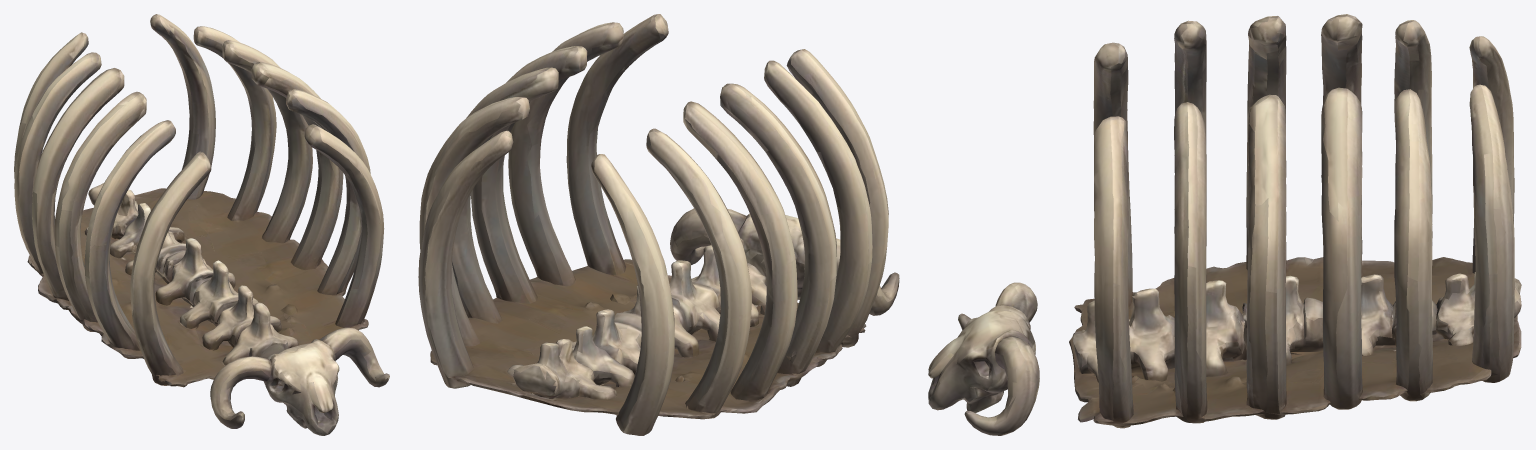
File: beast_skeleton.glb
3 renders of one model, left to right at view 1: azimuth 30°, elevation 25°; view 2: azimuth 150°, elevation 25°; view 3: azimuth 270°, elevation 25°, orthographic. The views are drawn at different scales.
Visible parts, largest first — view 1: geometry_0; view 2: geometry_0; view 3: geometry_0.
Boxes of the visible parts, bbox=[...] form: geometry_0: bbox=[14, 14, 389, 435]; geometry_0: bbox=[418, 14, 899, 435]; geometry_0: bbox=[928, 14, 1521, 435].
Bounding box in the file's own units: 3.6 × 3.27 × 4.9.
Materials: 1 (1 with a texture image).
